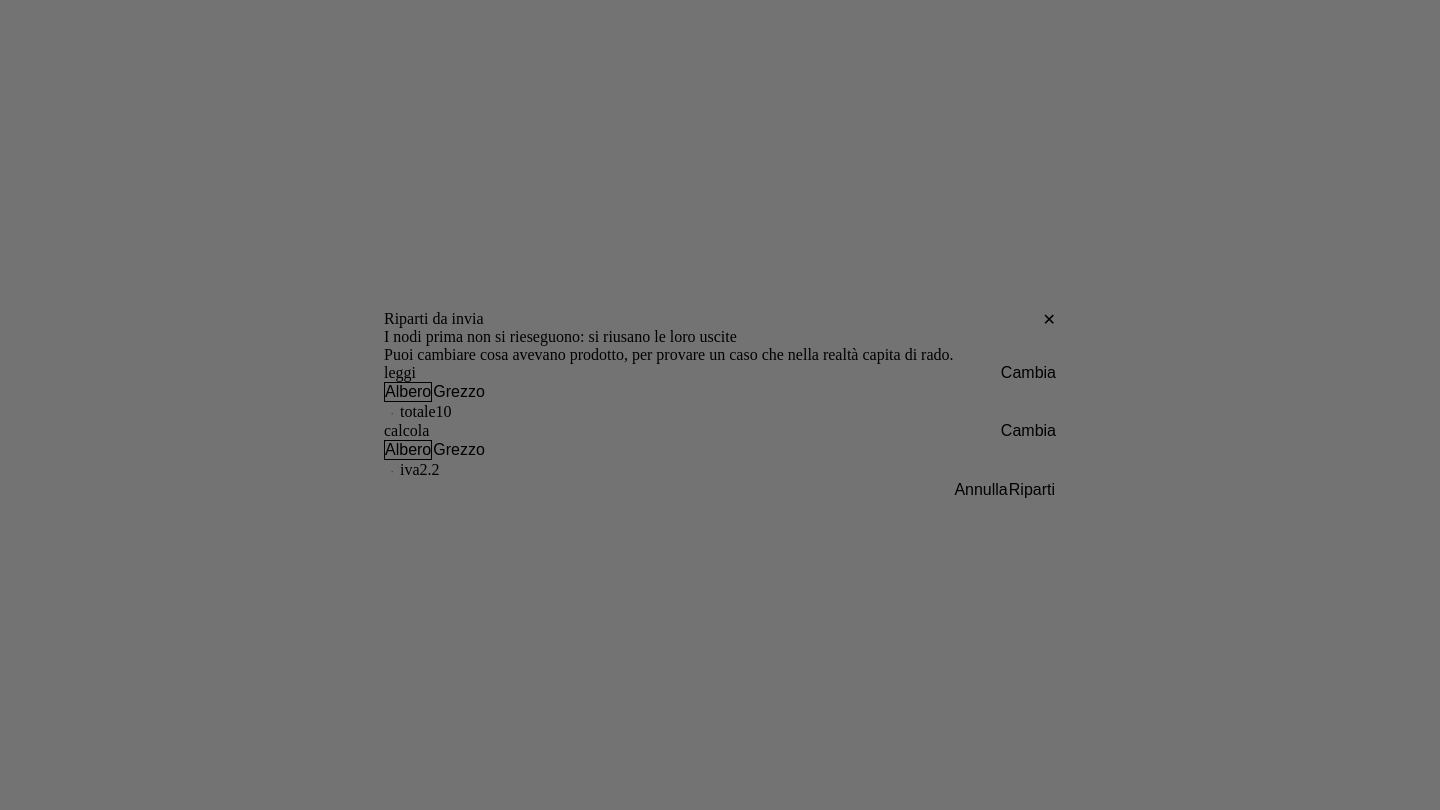
Test case: ripartire da un nodo › un dato scritto male si ferma qui, non al motore
Click the button "Cambia" in the row of "leggi" at (1028, 373), box [1001,364,1056,382]
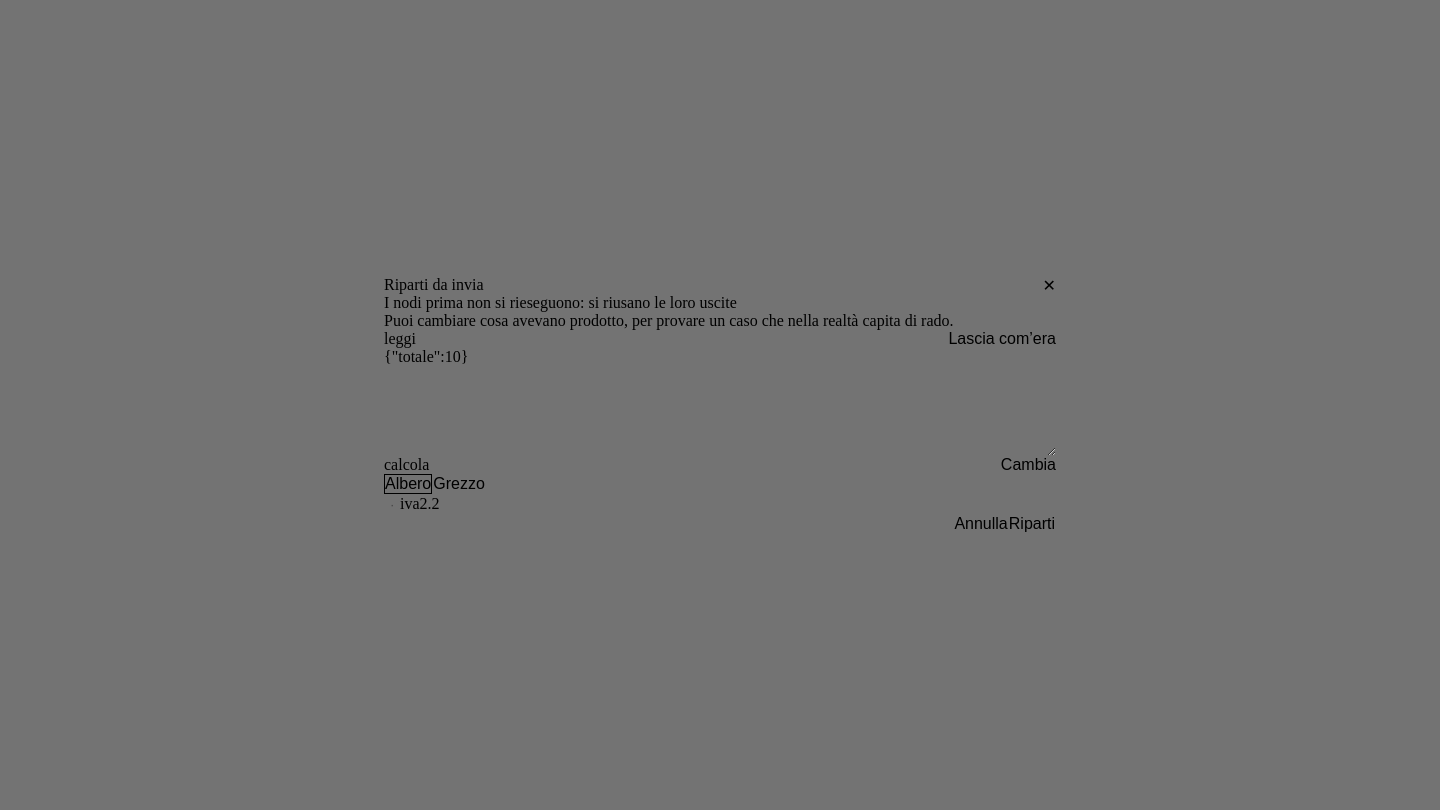
Replace the text in the text box named "Uscita di leggi" with "non json" at (720, 402), box [384,348,1056,456]
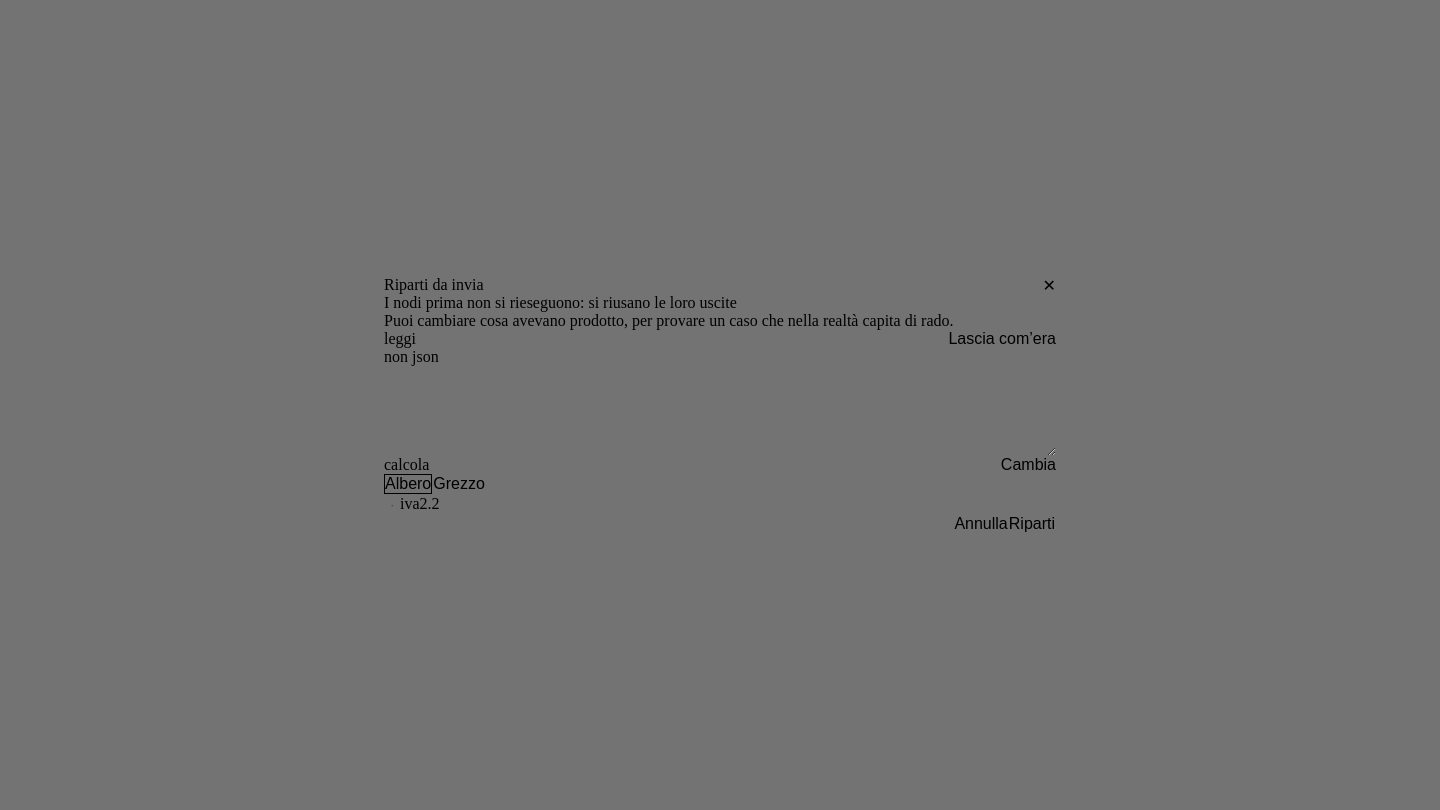
Click the button "Riparti" at (1032, 524), box [1008,514,1056,534]
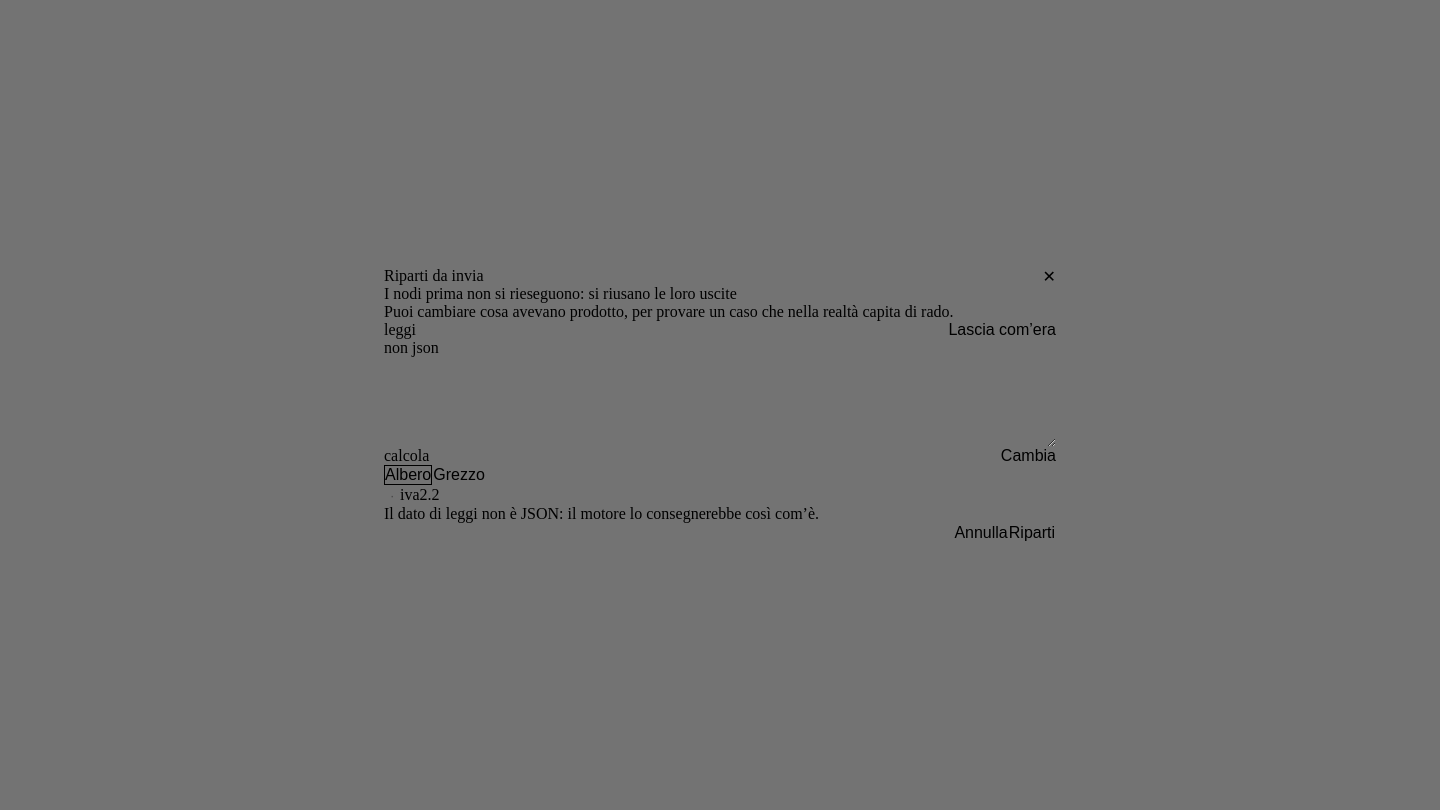
Expected: the text "non è JSON" is shown, [384,505,819,522]
